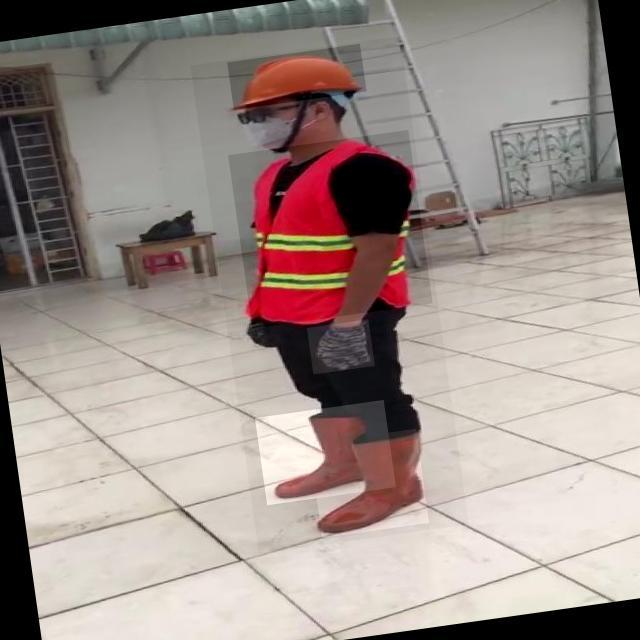Gloves: (307, 320, 375, 375)
Helmet: (228, 45, 367, 111)
Human: (190, 36, 469, 554)
Safety Boot: (255, 400, 396, 505), (309, 429, 429, 538)
Safety Vest: (228, 130, 433, 329)
